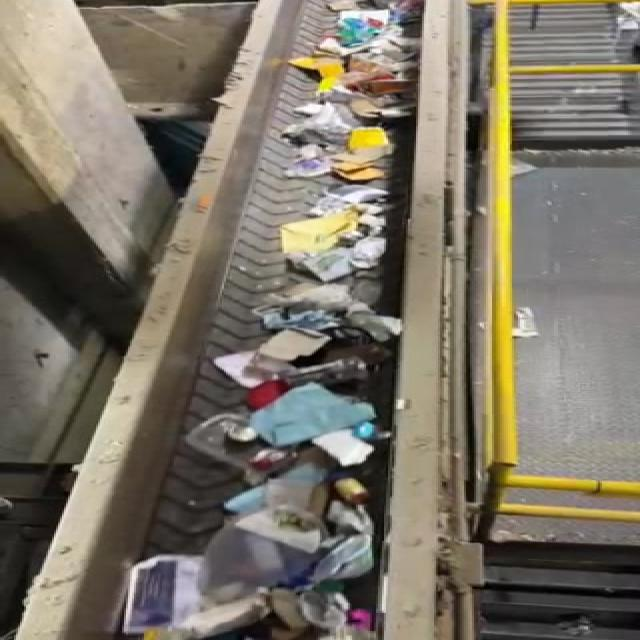metal: (330, 478, 382, 508)
paper: (238, 386, 387, 446), (118, 550, 208, 639), (214, 499, 336, 555)
